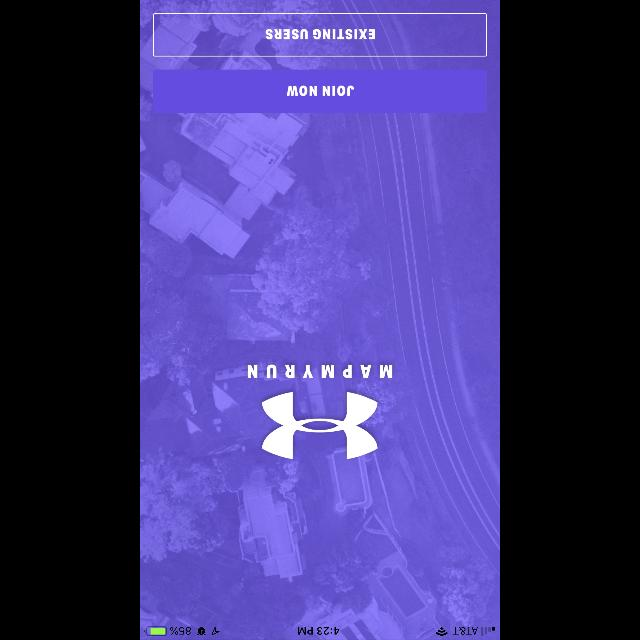backgroundimage: (140, 1, 500, 640)
image: (262, 392, 378, 458)
text: (248, 364, 392, 378)
textbutton: (153, 69, 487, 113), (153, 13, 487, 57)
uppertaskbar: (140, 626, 500, 640)
